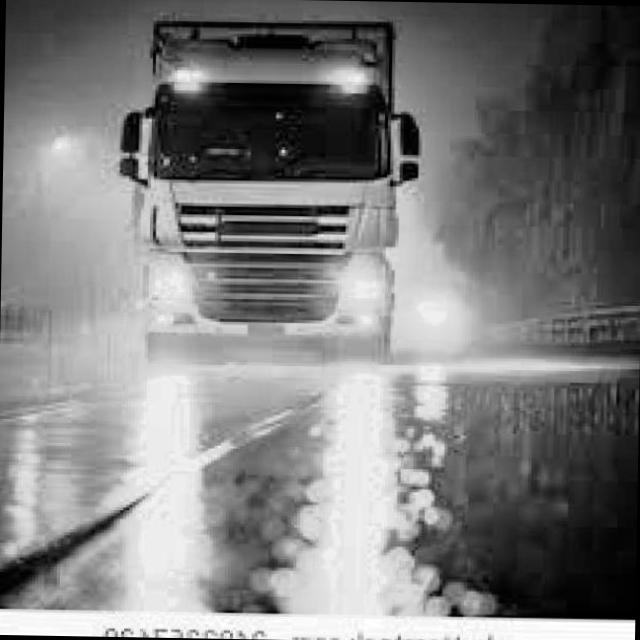Truck: (116, 14, 427, 360)
